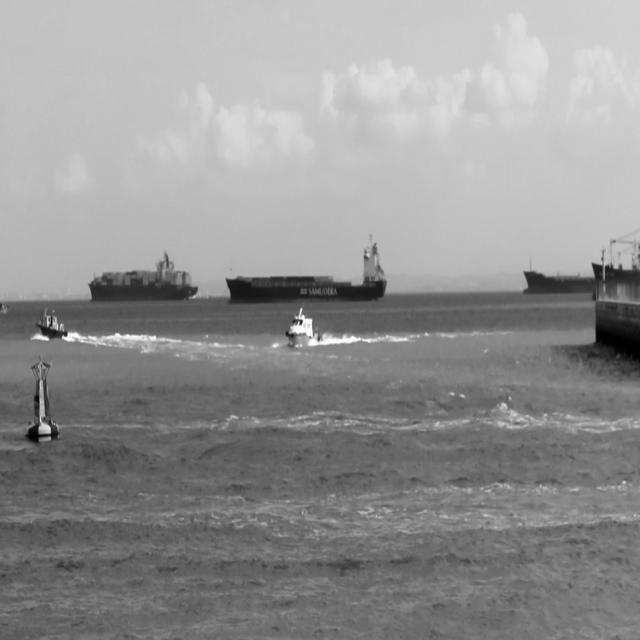buoy: (26, 356, 61, 444)
ship: (225, 231, 387, 302), (592, 223, 640, 355), (88, 249, 199, 305), (523, 254, 595, 296), (286, 304, 324, 347), (36, 306, 68, 339), (0, 298, 8, 317)
